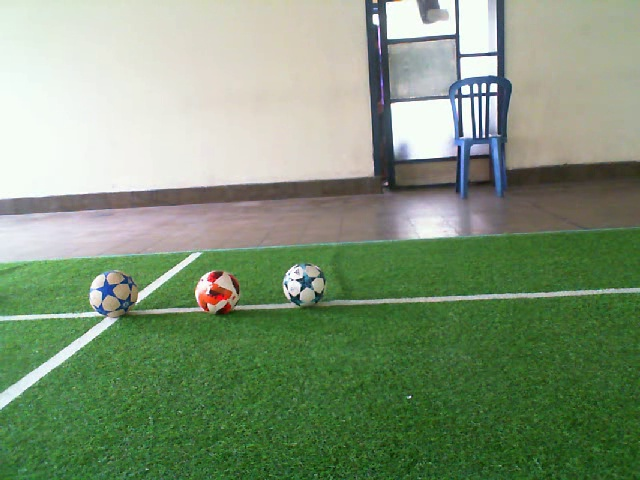ball: (87, 268, 139, 319), (192, 268, 243, 317), (281, 260, 329, 310)
